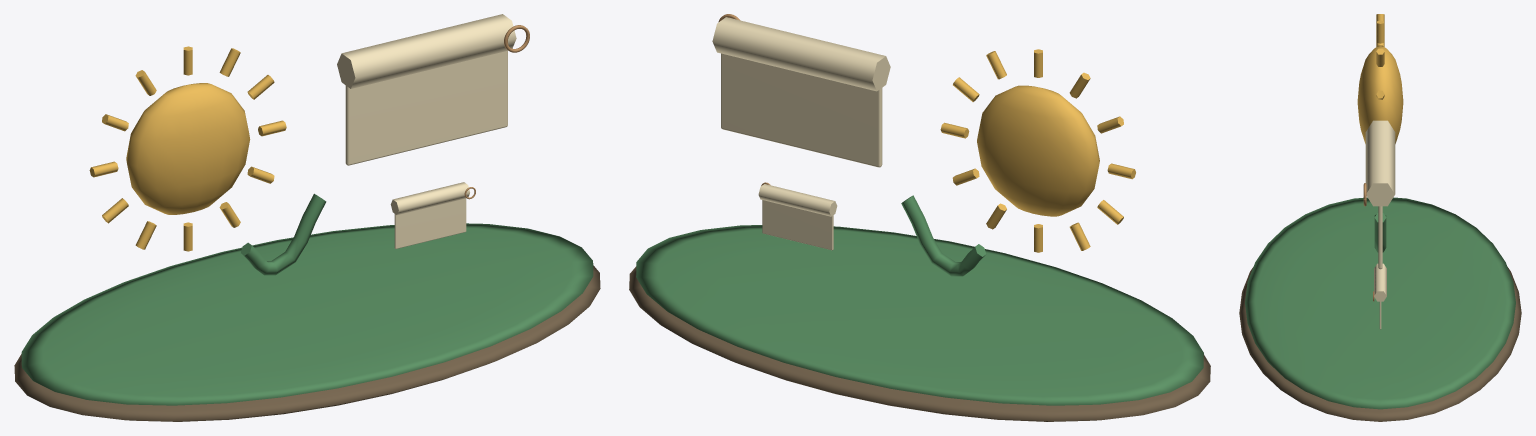
The model's file is complete-first-is-matching.glb.
3 views of the same model, side by side, from view 1: azimuth 30°, elevation 25°; view 2: azimuth 150°, elevation 25°; view 3: azimuth 270°, elevation 25° (orthographic). The views are drawn at different scales.
Parts seen in each view (by area): view 1: complete-first-is-matching_surface_01, complete-first-is-matching_surface_03, complete-first-is-matching_surface_02, complete-first-is-matching_surface_00; view 2: complete-first-is-matching_surface_01, complete-first-is-matching_surface_03, complete-first-is-matching_surface_02, complete-first-is-matching_surface_00; view 3: complete-first-is-matching_surface_01, complete-first-is-matching_surface_00, complete-first-is-matching_surface_02, complete-first-is-matching_surface_03.
Boxes of the visible parts, x1,y1,x2,y2 form: complete-first-is-matching_surface_01: [21, 193, 593, 405]; complete-first-is-matching_surface_03: [337, 14, 516, 248]; complete-first-is-matching_surface_02: [89, 46, 286, 251]; complete-first-is-matching_surface_00: [14, 265, 600, 421]; complete-first-is-matching_surface_01: [636, 195, 1203, 405]; complete-first-is-matching_surface_03: [712, 17, 890, 250]; complete-first-is-matching_surface_02: [940, 49, 1135, 252]; complete-first-is-matching_surface_00: [629, 266, 1210, 421]; complete-first-is-matching_surface_01: [1245, 197, 1515, 409]; complete-first-is-matching_surface_00: [1239, 267, 1521, 421]; complete-first-is-matching_surface_02: [1357, 14, 1403, 143]; complete-first-is-matching_surface_03: [1365, 120, 1395, 329].
Size of the model in its own units: 4.56 by 2.52 by 2.5.
